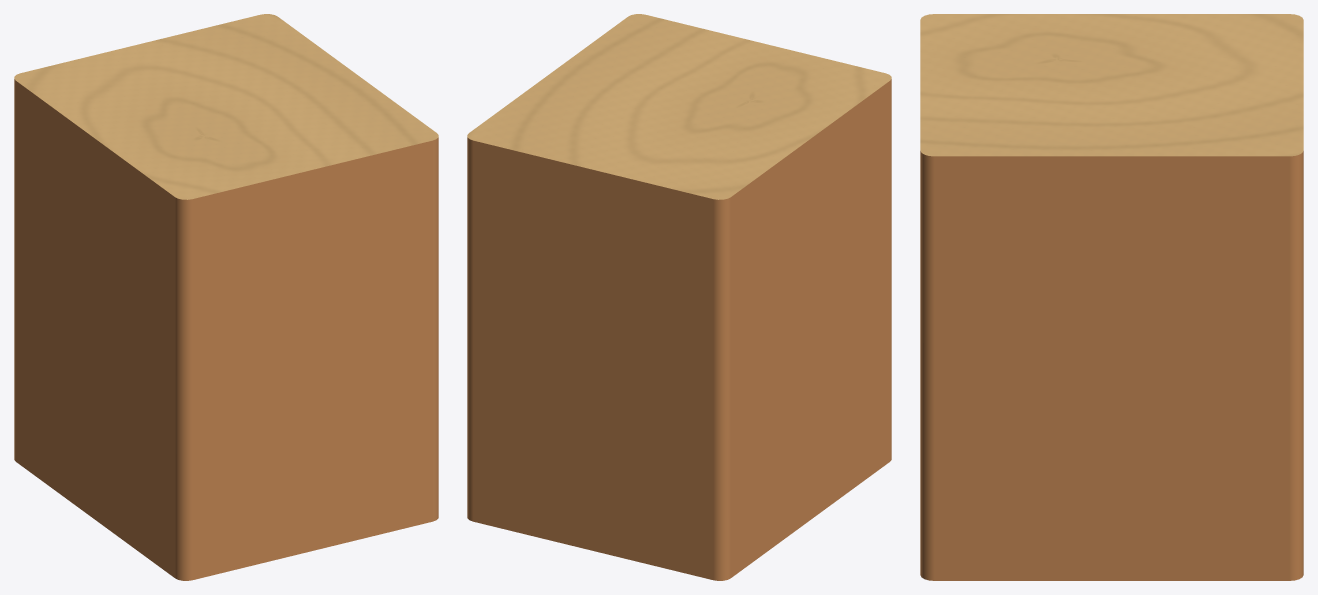
The model's file is editor-source.glb.
3 renders of one model, left to right at view 1: azimuth 30°, elevation 25°; view 2: azimuth 150°, elevation 25°; view 3: azimuth 270°, elevation 25°, orthographic. The views are drawn at different scales.
Visible parts, largest first — view 1: Block_Paint_Front, Block_Painted_Body, Block_Wood_Bottom; view 2: Block_Paint_Back, Block_Painted_Body, Block_Wood_Bottom; view 3: Block_Paint_Left, Block_Wood_Bottom, Block_Paint_Front, Block_Paint_Back.
Part boxes in pixels (left/top/right/bottom): Block_Paint_Front: left=182, top=138, right=438, bottom=580; Block_Painted_Body: left=14, top=79, right=182, bottom=580; Block_Wood_Bottom: left=14, top=14, right=438, bottom=199; Block_Paint_Back: left=467, top=138, right=723, bottom=580; Block_Painted_Body: left=723, top=79, right=891, bottom=580; Block_Wood_Bottom: left=467, top=14, right=891, bottom=199; Block_Paint_Left: left=924, top=155, right=1299, bottom=580; Block_Wood_Bottom: left=920, top=14, right=1303, bottom=156; Block_Paint_Front: left=920, top=151, right=924, bottom=578; Block_Paint_Back: left=1299, top=151, right=1303, bottom=578.
Bounding box in the file's own units: 0.095 × 0.132 × 0.108.
Materials: 2 (1 with a texture image).
